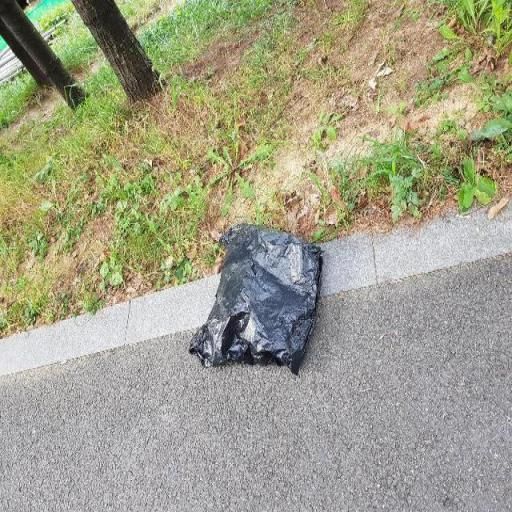plastic-bag: (188, 220, 322, 378)
